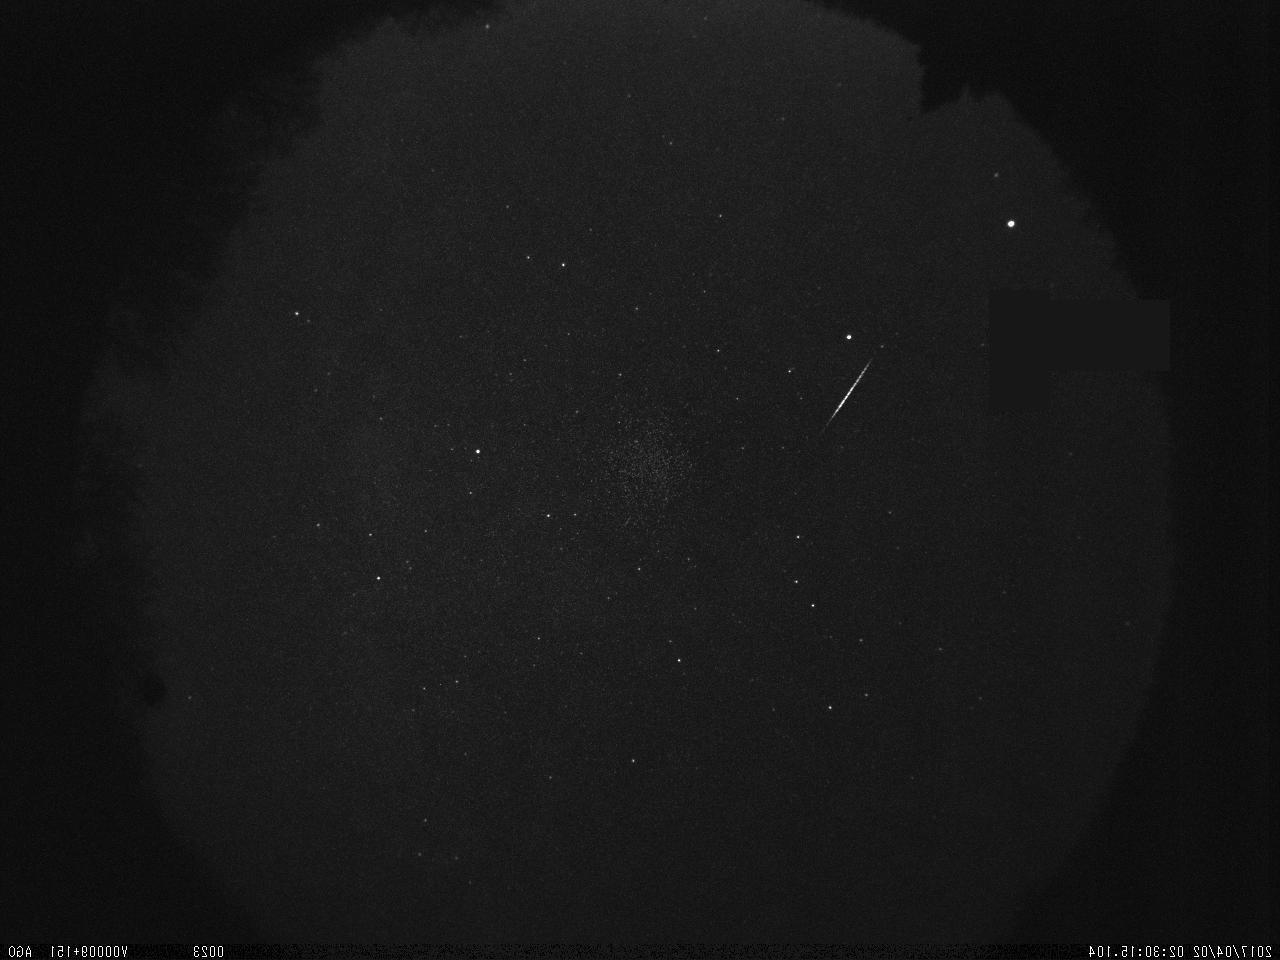meteor: (807, 354, 879, 435)
